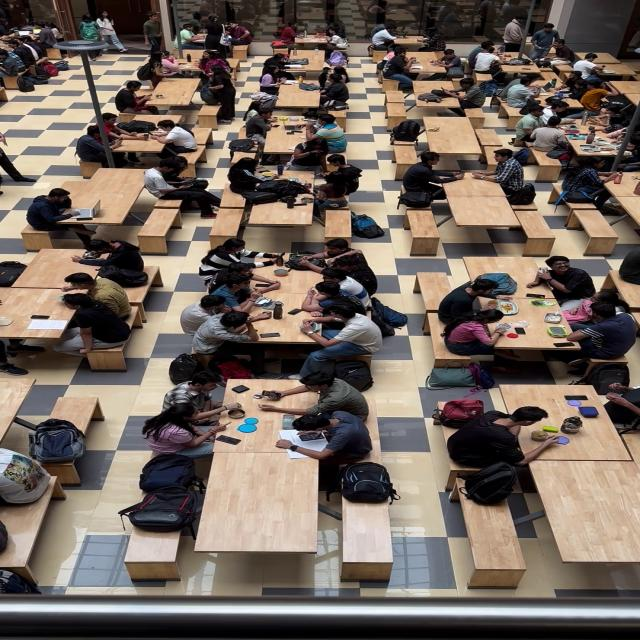Occupied: (176, 246, 365, 368), (129, 382, 368, 472), (419, 271, 617, 373), (403, 382, 640, 466), (490, 114, 629, 174), (190, 162, 338, 216), (368, 160, 509, 216), (133, 22, 245, 80), (42, 120, 171, 169), (0, 424, 63, 518), (522, 165, 640, 212), (79, 84, 204, 128), (340, 56, 446, 107), (206, 77, 319, 121), (135, 23, 231, 74), (0, 308, 51, 401), (451, 49, 566, 88), (119, 476, 179, 547), (120, 22, 214, 67), (4, 198, 84, 250), (1, 17, 64, 79), (461, 88, 586, 119), (121, 172, 190, 225), (502, 8, 575, 54), (364, 19, 455, 53), (218, 30, 321, 60), (316, 476, 388, 518), (54, 252, 122, 294), (443, 476, 506, 515), (111, 67, 209, 89), (585, 49, 632, 83), (390, 111, 434, 142), (366, 133, 406, 156), (0, 257, 22, 287)
Unoccupied: (522, 470, 640, 574), (182, 472, 296, 568), (451, 522, 515, 586), (324, 520, 384, 579), (95, 541, 164, 583), (70, 179, 112, 230), (542, 214, 590, 253), (74, 320, 106, 374), (8, 262, 51, 302), (230, 213, 283, 240), (382, 222, 421, 258), (427, 217, 490, 239), (595, 209, 640, 239), (56, 396, 101, 424), (494, 215, 523, 250), (32, 410, 78, 429), (74, 301, 117, 320), (194, 222, 218, 256), (439, 112, 473, 136), (110, 224, 140, 248), (305, 219, 327, 249), (445, 138, 474, 159), (356, 116, 383, 131)
